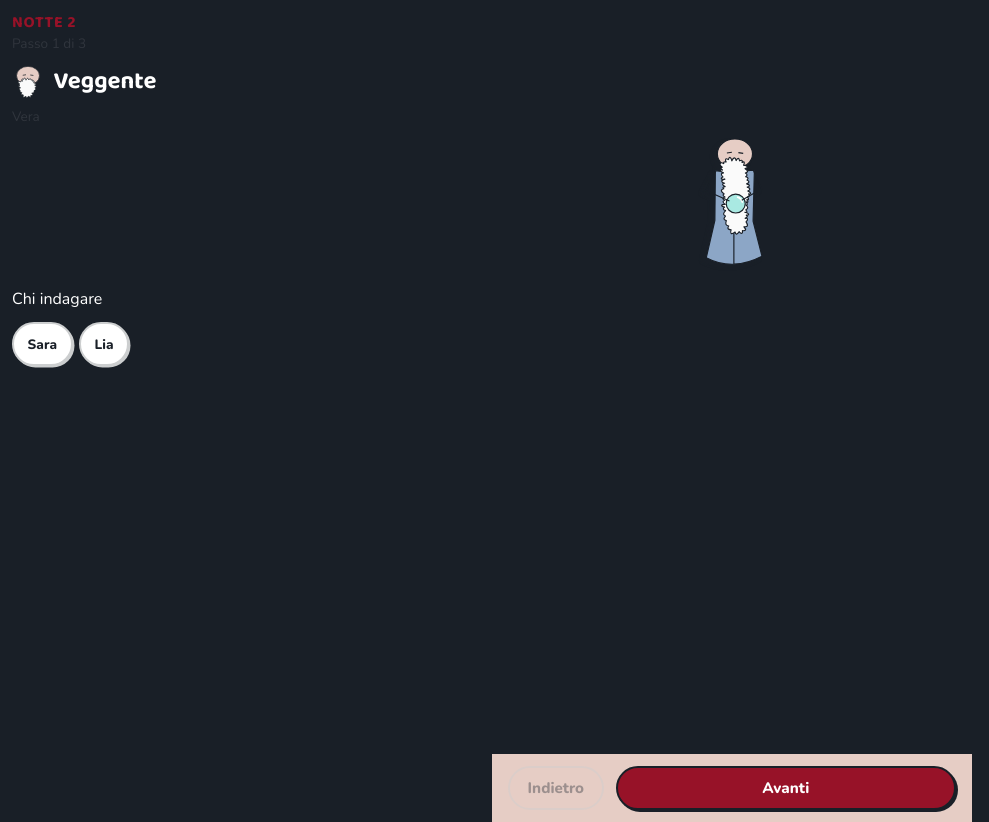
Test: la Strega che uccide il Veggente (un passo precedente che sparisce) non fa saltare la schermata né il Branco
Step 1. Click the button "Avanti" → (786,788), box [616,766,956,810]
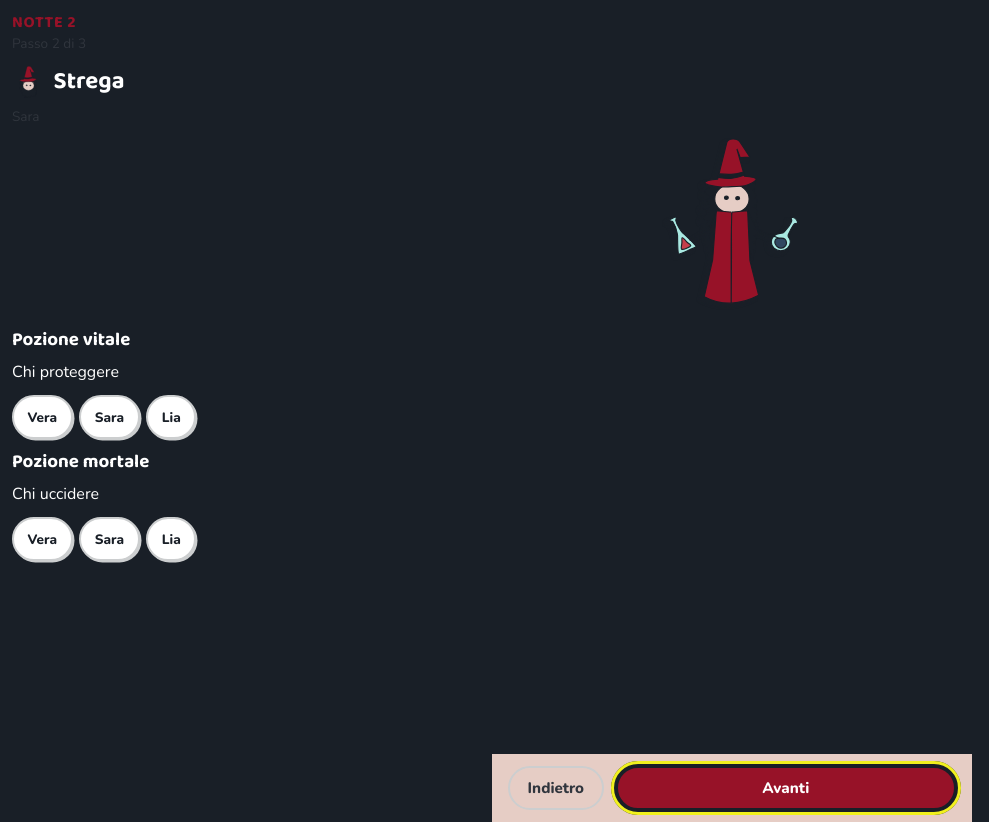
Expected: the heading "Strega" is shown, [12,62,124,101]
Step 2. Click the button "Vera" below "Chi uccidere" → (42,539), box [12,517,73,561]
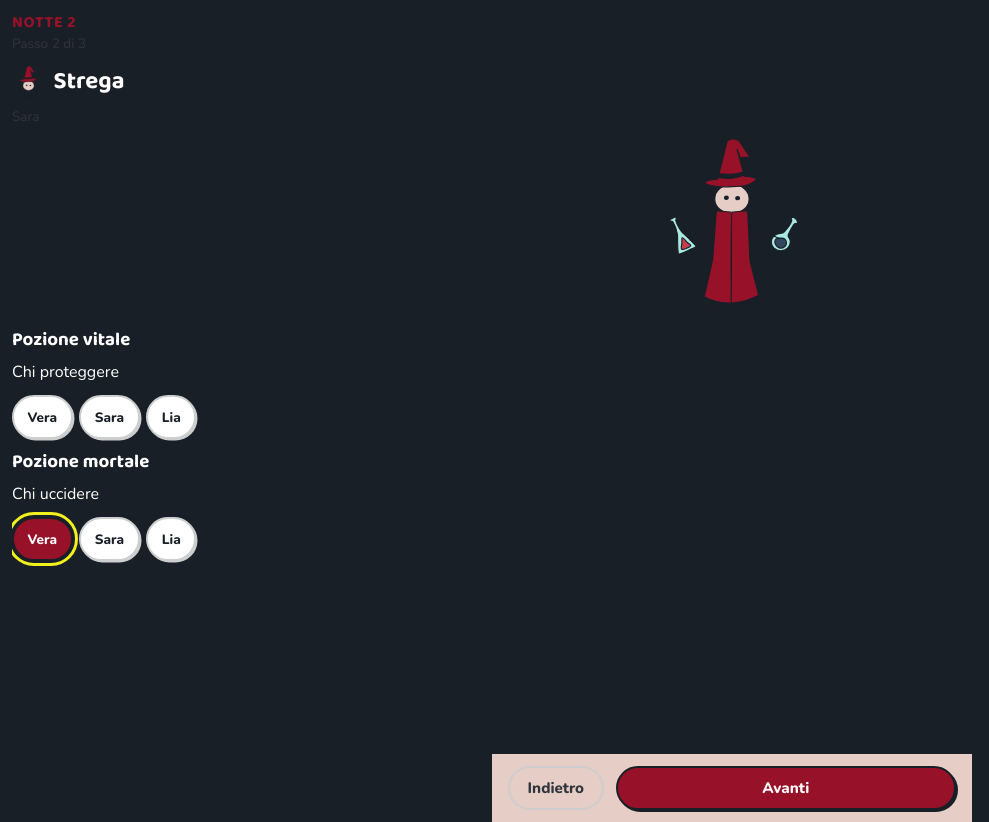
Expected: the heading "Strega" is shown, [12,62,124,101]
Step 3. Click the button "Avanti" → (786,788), box [616,766,956,810]
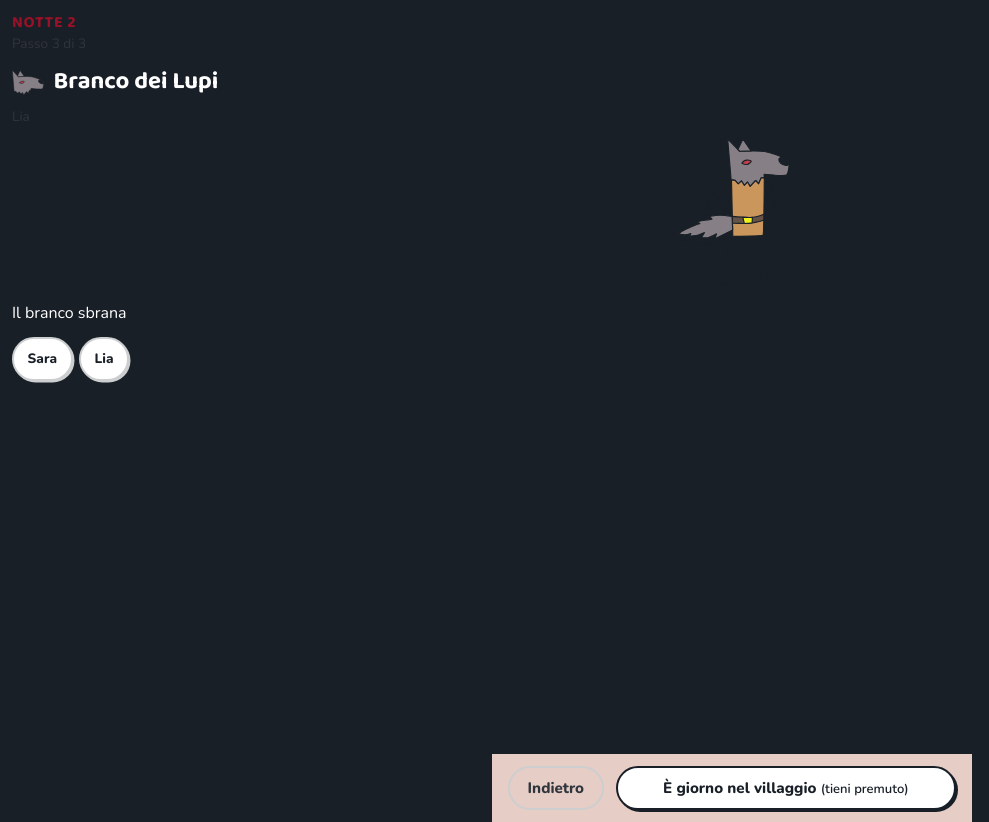
Expected: the heading "Branco dei Lupi" is shown, [12,62,218,101]
